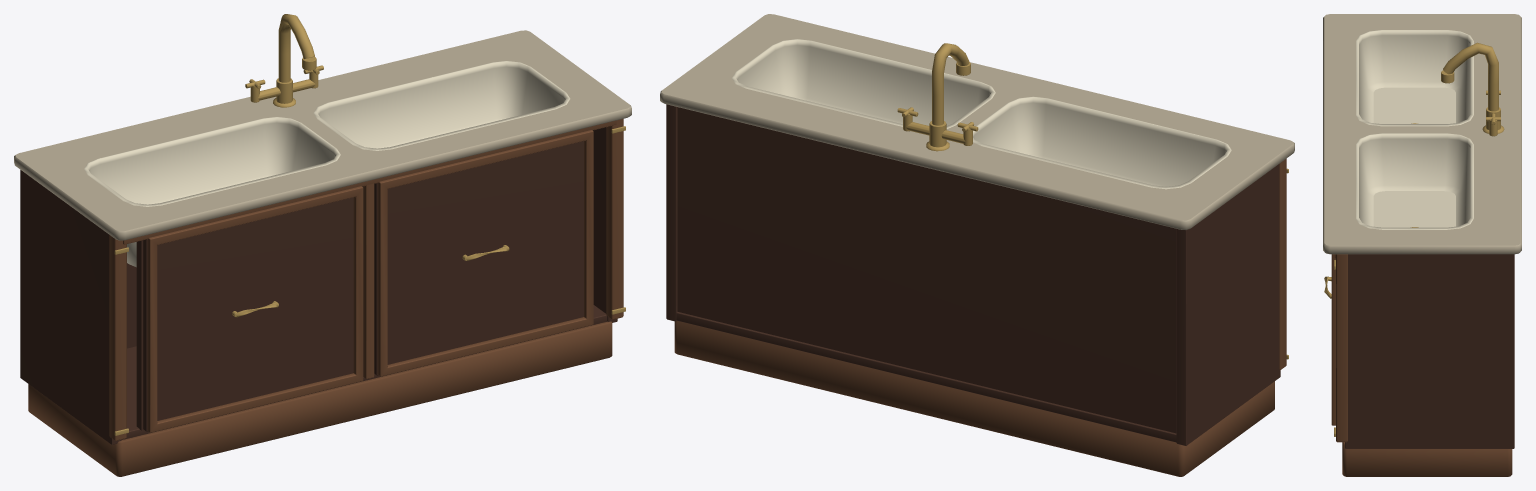
The model's file is rpg-mansion-scullery-double-sink-1800-01.glb.
3 views of the same model, side by side, from view 1: azimuth 30°, elevation 25°; view 2: azimuth 150°, elevation 25°; view 3: azimuth 270°, elevation 25° (orthographic). The views are drawn at different scales.
Parts seen in each view (by area): view 1: rpg-mansion-scullery-double-sink-1800-01; view 2: rpg-mansion-scullery-double-sink-1800-01; view 3: rpg-mansion-scullery-double-sink-1800-01.
Part boxes in pixels (x1=…): rpg-mansion-scullery-double-sink-1800-01: x1=14, y1=14, x2=631, y2=476; rpg-mansion-scullery-double-sink-1800-01: x1=660, y1=14, x2=1294, y2=476; rpg-mansion-scullery-double-sink-1800-01: x1=1323, y1=14, x2=1521, y2=476.
Size of the model in its own units: 1.8 by 1.16 by 0.65.
